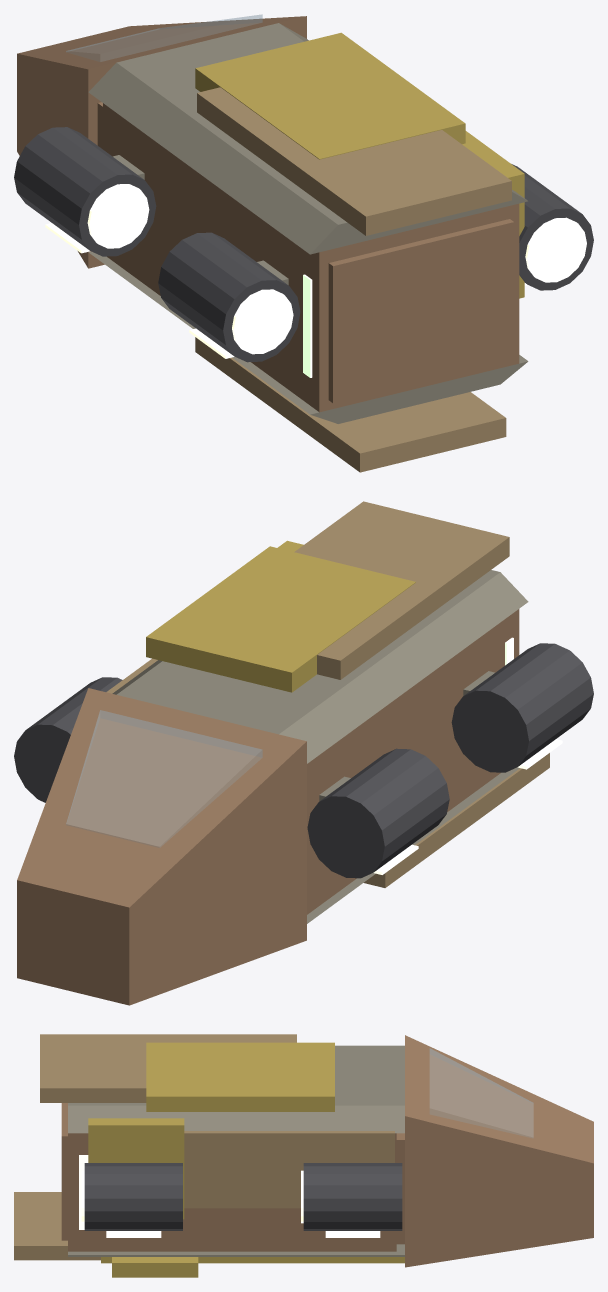
File: ship_XS_DARTER.glb
3 renders of one model, top to bottom at view 1: azimuth 30°, elevation 25°; view 2: azimuth 150°, elevation 25°; view 3: azimuth 270°, elevation 25°, orthographic. The views are drawn at different scales.
Visible parts, largest first — view 1: XS_DARTER_Hull-col, XS_DARTER_ScrapPlates, XS_DARTER_Ramp-col, XS_DARTER_Armor, XS_DARTER_Engines, XS_DARTER_ScrapTrim, XS_DARTER_EngineGlow, XS_DARTER_Glass-col, XS_DARTER_Lights; view 2: XS_DARTER_Hull-col, XS_DARTER_Engines, XS_DARTER_Armor, XS_DARTER_ScrapTrim, XS_DARTER_ScrapPlates, XS_DARTER_Glass-col, XS_DARTER_EngineGlow; view 3: XS_DARTER_Hull-col, XS_DARTER_ScrapPlates, XS_DARTER_ScrapTrim, XS_DARTER_Engines, XS_DARTER_Armor, XS_DARTER_Glass-col, XS_DARTER_Trim, XS_DARTER_EngineGlow, XS_DARTER_Ramp-col.
Part boxes in pixels (<box>): XS_DARTER_Hull-col: <box>17,16,519,412</box>; XS_DARTER_ScrapPlates: <box>195,87,511,472</box>; XS_DARTER_Ramp-col: <box>328,219,514,403</box>; XS_DARTER_Armor: <box>88,23,528,423</box>; XS_DARTER_Engines: <box>14,127,593,362</box>; XS_DARTER_ScrapTrim: <box>195,32,524,298</box>; XS_DARTER_EngineGlow: <box>45,184,586,358</box>; XS_DARTER_Glass-col: <box>66,14,262,61</box>; XS_DARTER_Lights: <box>303,274,312,377</box>; XS_DARTER_Hull-col: <box>17,609,519,1005</box>; XS_DARTER_Engines: <box>14,643,593,878</box>; XS_DARTER_Armor: <box>112,570,528,923</box>; XS_DARTER_ScrapTrim: <box>146,540,415,692</box>; XS_DARTER_ScrapPlates: <box>106,501,549,887</box>; XS_DARTER_Glass-col: <box>66,710,262,847</box>; XS_DARTER_EngineGlow: <box>373,739,562,874</box>; XS_DARTER_Hull-col: <box>68,1035,593,1267</box>; XS_DARTER_ScrapPlates: <box>14,1034,394,1260</box>; XS_DARTER_ScrapTrim: <box>88,1042,334,1277</box>; XS_DARTER_Engines: <box>84,1163,402,1230</box>; XS_DARTER_Armor: <box>68,1045,404,1256</box>; XS_DARTER_Glass-col: <box>430,1048,533,1137</box>; XS_DARTER_Trim: <box>101,1257,404,1263</box>; XS_DARTER_EngineGlow: <box>81,1170,380,1237</box>; XS_DARTER_Ramp-col: <box>61,1103,67,1240</box>.
Bounding box in the file's own units: 5.94 × 3.65 × 10.59.
